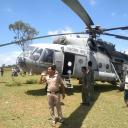helicopter: (6, 19, 128, 86)
